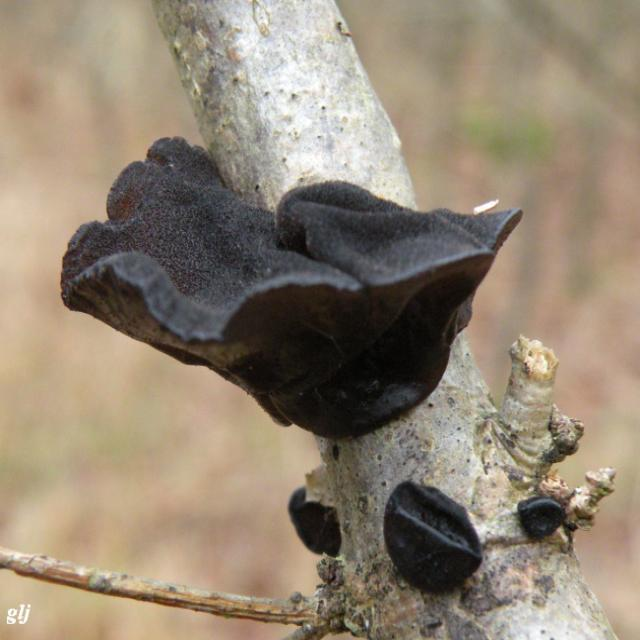Auricularia auricula: (61, 132, 522, 441), (382, 479, 481, 588), (289, 483, 341, 558), (517, 492, 567, 540)
